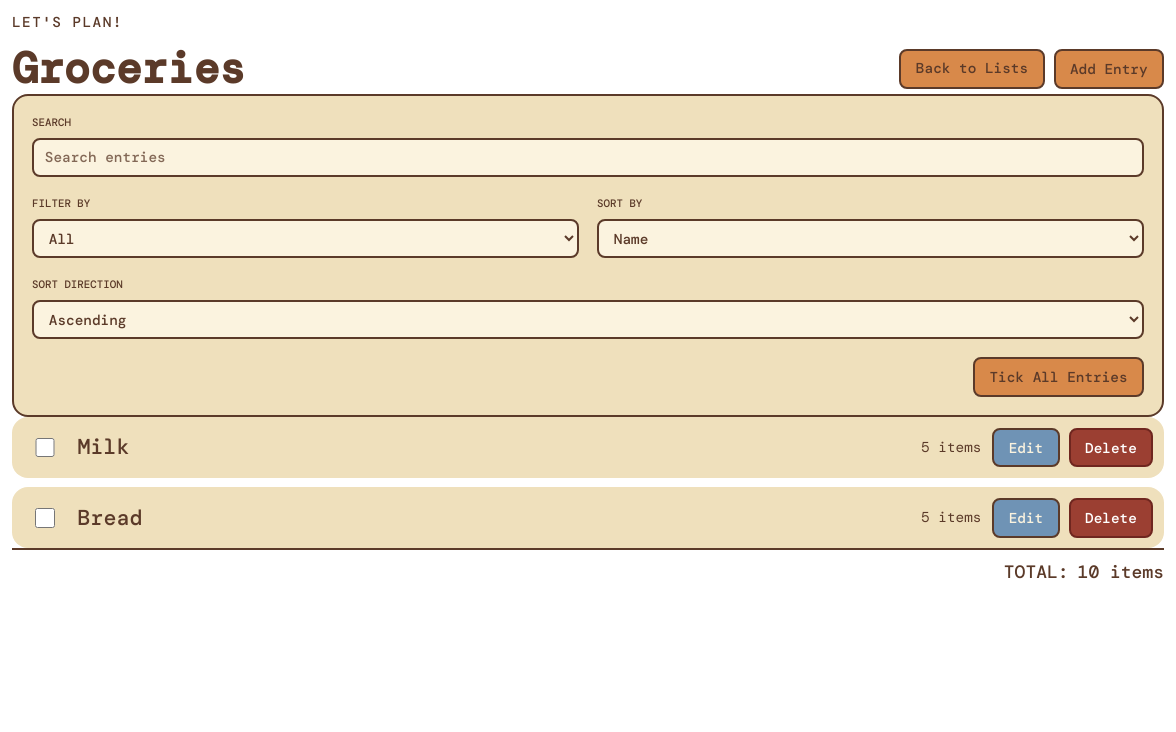
Test case: ListPage › shows bulk conflicts at page level and reloads the list
This screenshot has width=1176, height=732.
Click the button "Tick All Entries": (1059, 377) [973, 357, 1144, 397]
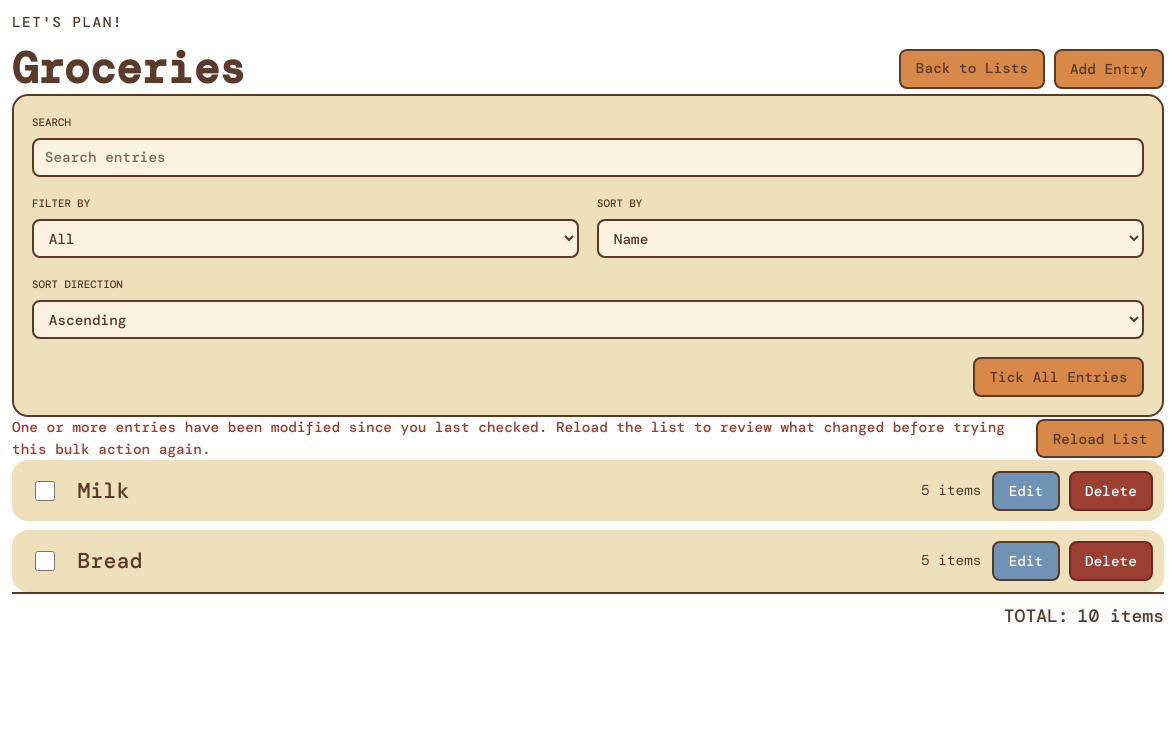
Check: the button with aria-label "Edit Milk" is enabled, box [992, 471, 1060, 511]
Check: the message shows "Reload the list to review what changed before trying this bulk action again.", box [12, 418, 1005, 458]
Click the button "Reload List": (1100, 439) [1036, 419, 1164, 458]
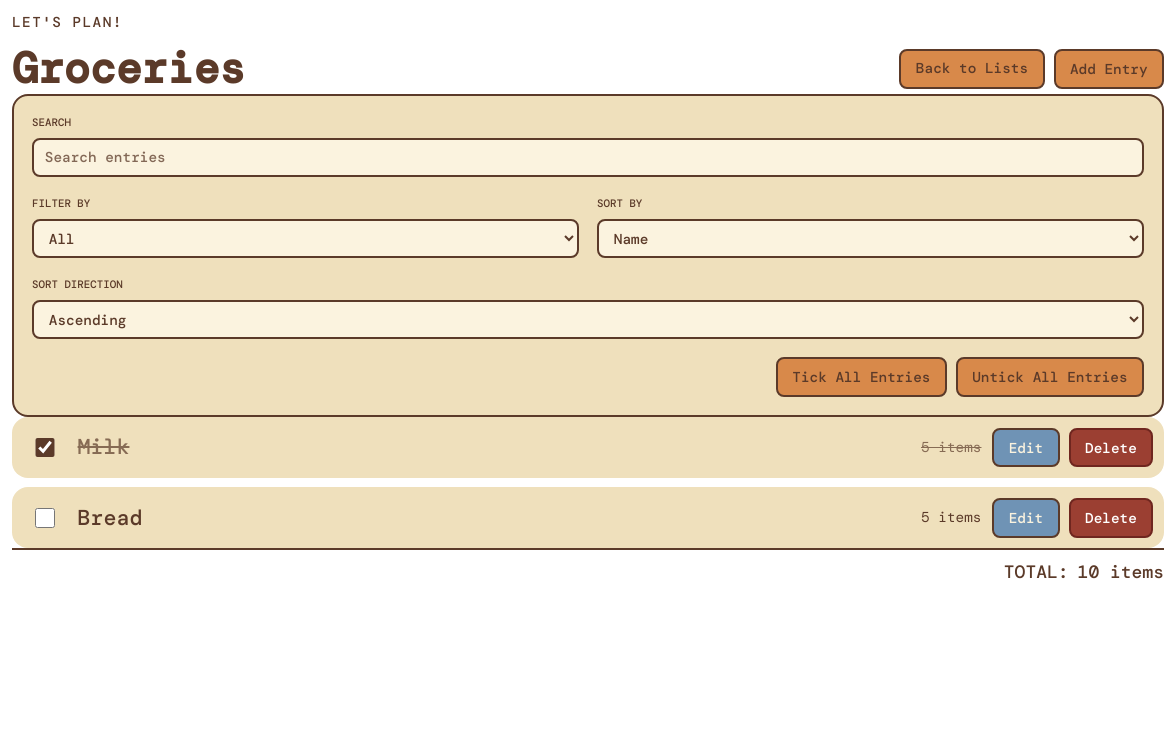
Check: the checkbox named "Mark Milk as not completed" next to "Milk" is checked, box [35, 438, 55, 457]
Check: the message is gone
